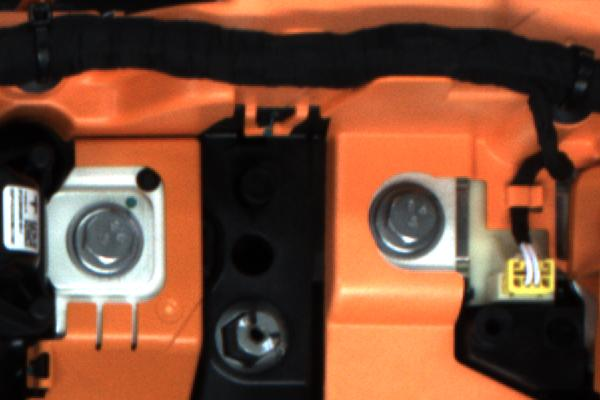nut_b: (64, 200, 155, 285), (361, 177, 443, 268)
